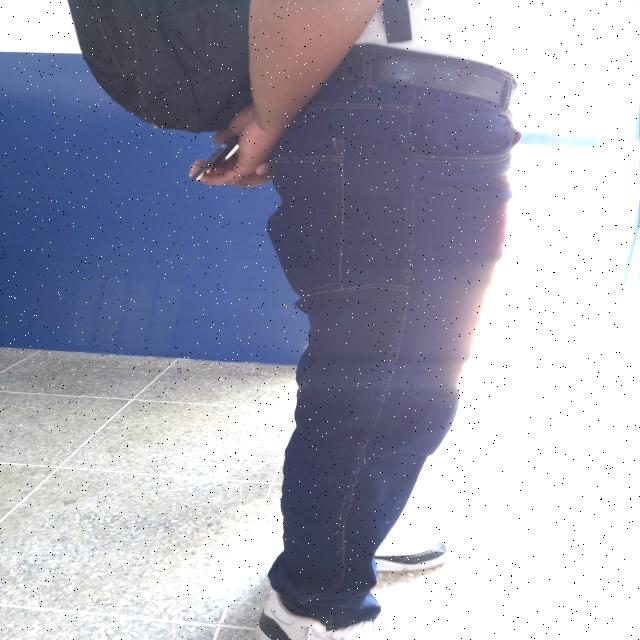pantalon_oscuro: (264, 75, 523, 632)
